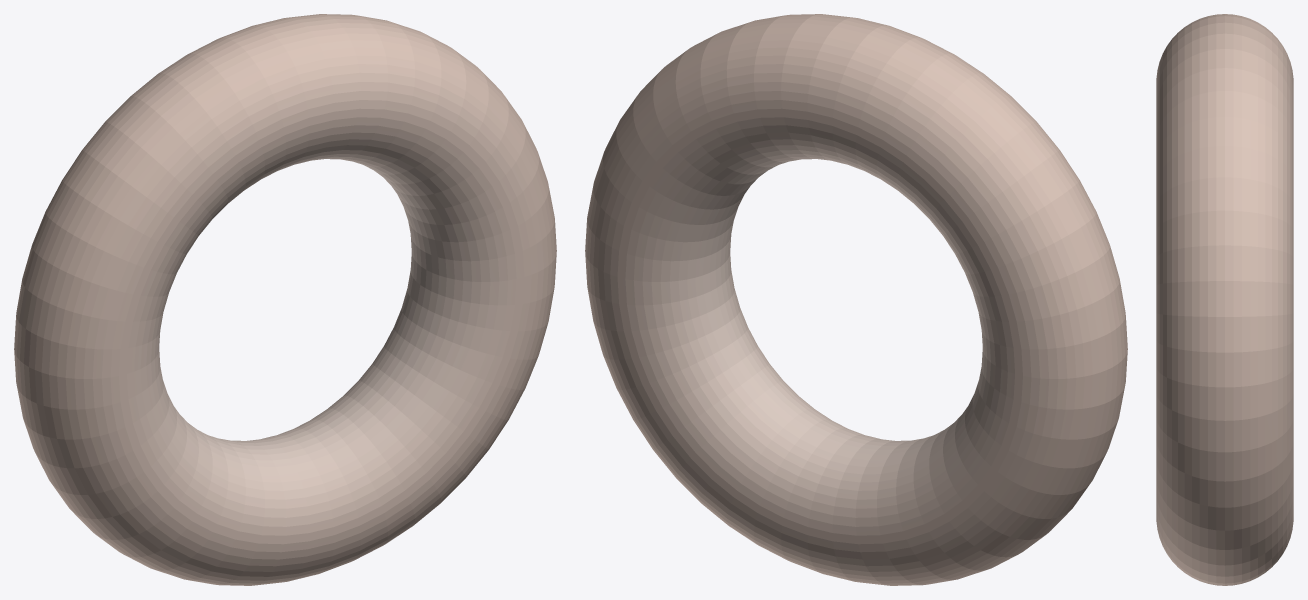
3 views of the same model, side by side, from view 1: azimuth 30°, elevation 25°; view 2: azimuth 150°, elevation 25°; view 3: azimuth 270°, elevation 25° (orthographic). The views are drawn at different scales.
Parts seen in each view (by area): view 1: world; view 2: world; view 3: world.
Boxes of the visible parts, x1=… form: world: x1=14, y1=14, x2=556, y2=585; world: x1=585, y1=14, x2=1127, y2=585; world: x1=1156, y1=14, x2=1293, y2=585.
Bounding box in the file's own units: 27.2 × 27.15 × 6.52.
